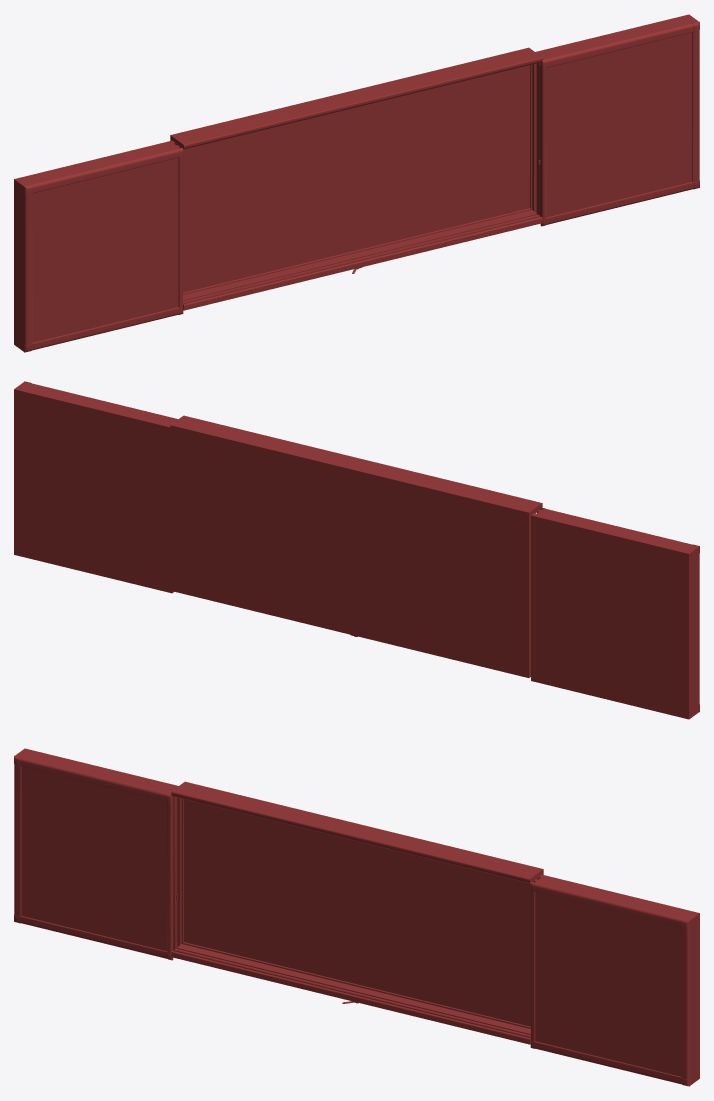
File: P-0002_BlackBoard.fbx
3 views of the same model, one above another, from view 1: azimuth 30°, elevation 25°; view 2: azimuth 150°, elevation 25°; view 3: azimuth 330°, elevation 25° (orthographic).
Parts seen in each view (by area): view 1: BlackBoard_main, BlackBoard_side_R, BlackBoard_side_L; view 2: BlackBoard_main, BlackBoard_side_R, BlackBoard_side_L; view 3: BlackBoard_main, BlackBoard_side_L, BlackBoard_side_R.
Boxes of the visible parts, box(x1,y1,x2,y2) form: BlackBoard_main: box(170, 47, 542, 310); BlackBoard_side_R: box(14, 140, 183, 352); BlackBoard_side_L: box(532, 14, 699, 226); BlackBoard_main: box(170, 415, 542, 677); BlackBoard_side_R: box(531, 507, 699, 719); BlackBoard_side_L: box(14, 381, 178, 593); BlackBoard_main: box(171, 781, 543, 1044); BlackBoard_side_L: box(530, 874, 699, 1086); BlackBoard_side_R: box(14, 748, 181, 960).
Size of the model in its own units: 6.44 by 1.57 by 0.226.
